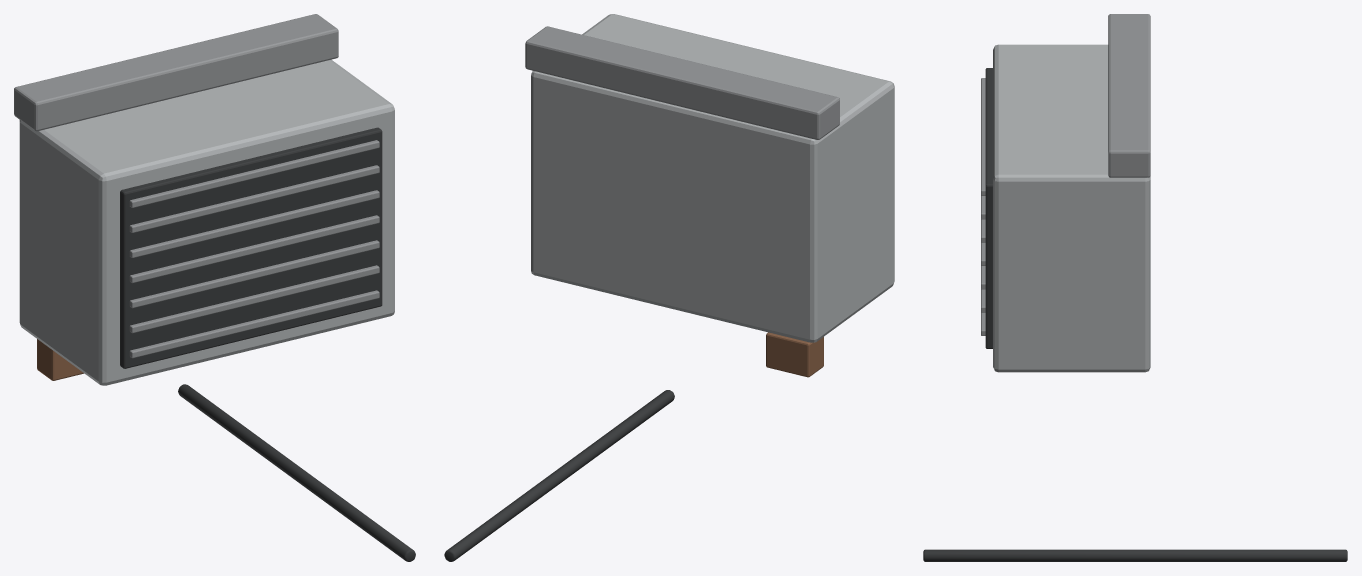
The model's file is prop_ac_unit.glb.
3 views of the same model, side by side, from view 1: azimuth 30°, elevation 25°; view 2: azimuth 150°, elevation 25°; view 3: azimuth 270°, elevation 25° (orthographic). The views are drawn at different scales.
Parts seen in each view (by area): view 1: Cube, Cube.001, Cube.009, Cylinder, Cube.002, Cube.003, Cube.004, Cube.005, Cube.008, Cube.006, Cube.007, Cube.010; view 2: Cube, Cube.009, Cylinder, Cube.010; view 3: Cube, Cube.009, Cylinder, Cube.001, Cube.008.
Part boxes in pixels (x1,y1,x2,y2): Cube: (19, 59, 394, 385); Cube.001: (120, 127, 382, 368); Cube.009: (14, 14, 338, 131); Cylinder: (178, 384, 415, 561); Cube.002: (129, 290, 379, 358); Cube.003: (129, 265, 379, 333); Cube.004: (129, 240, 379, 308); Cube.005: (129, 215, 379, 283); Cube.008: (129, 140, 379, 207); Cube.006: (129, 190, 379, 257); Cube.007: (129, 165, 379, 232); Cube.010: (37, 339, 83, 380); Cube: (531, 14, 894, 342); Cube.009: (525, 26, 839, 139); Cylinder: (444, 390, 674, 561); Cube.010: (766, 332, 823, 377); Cube: (993, 44, 1150, 372); Cube.009: (1108, 14, 1150, 177); Cylinder: (923, 549, 1347, 561); Cube.001: (985, 68, 992, 348); Cube.008: (981, 78, 985, 195).
Size of the model in its own units: 1.08 by 1.54 by 1.4.
